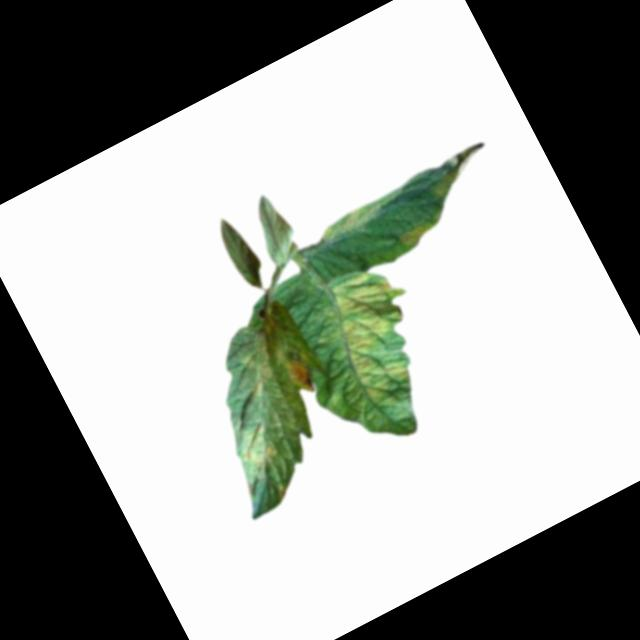Leaf_Mold: (296, 252, 452, 427), (315, 183, 410, 249), (418, 135, 502, 204), (227, 324, 299, 403), (229, 417, 286, 479), (392, 210, 446, 255), (277, 341, 321, 396)
